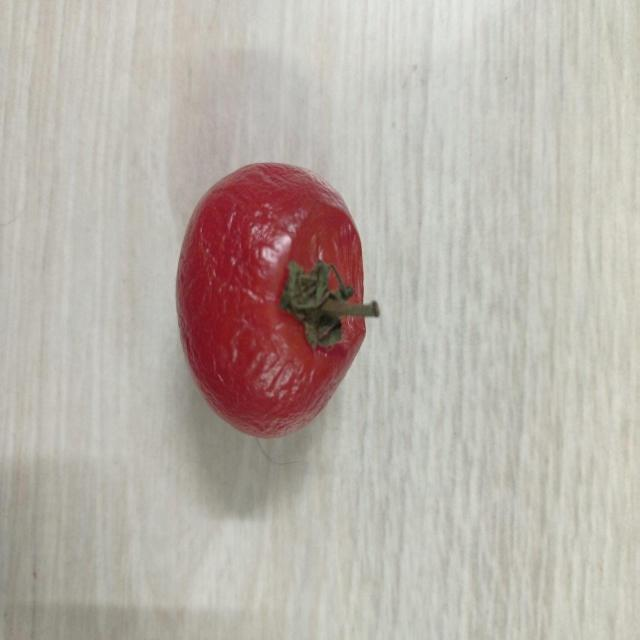overripe: (175, 162, 367, 441)
